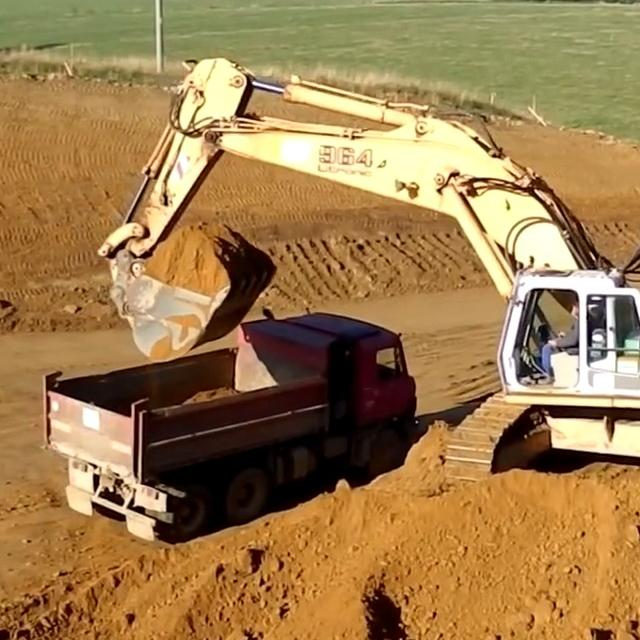Excavator: (101, 53, 640, 490)
NO-Hardhat: (573, 304, 582, 312)
NO-Safety Vest: (564, 318, 593, 351)
Person: (537, 303, 581, 386)
dump truck: (41, 305, 419, 544)
